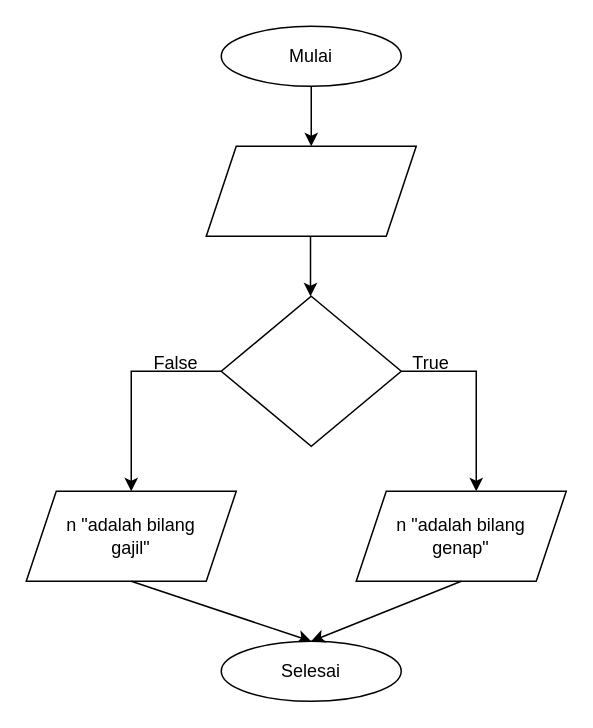
Image size: 593x728. Some labels were removed from this diagram. Each missing label, with the box of its shape:
Input Nilai : n: (205, 145, 416, 236)
n%2==0: (220, 295, 401, 446)
